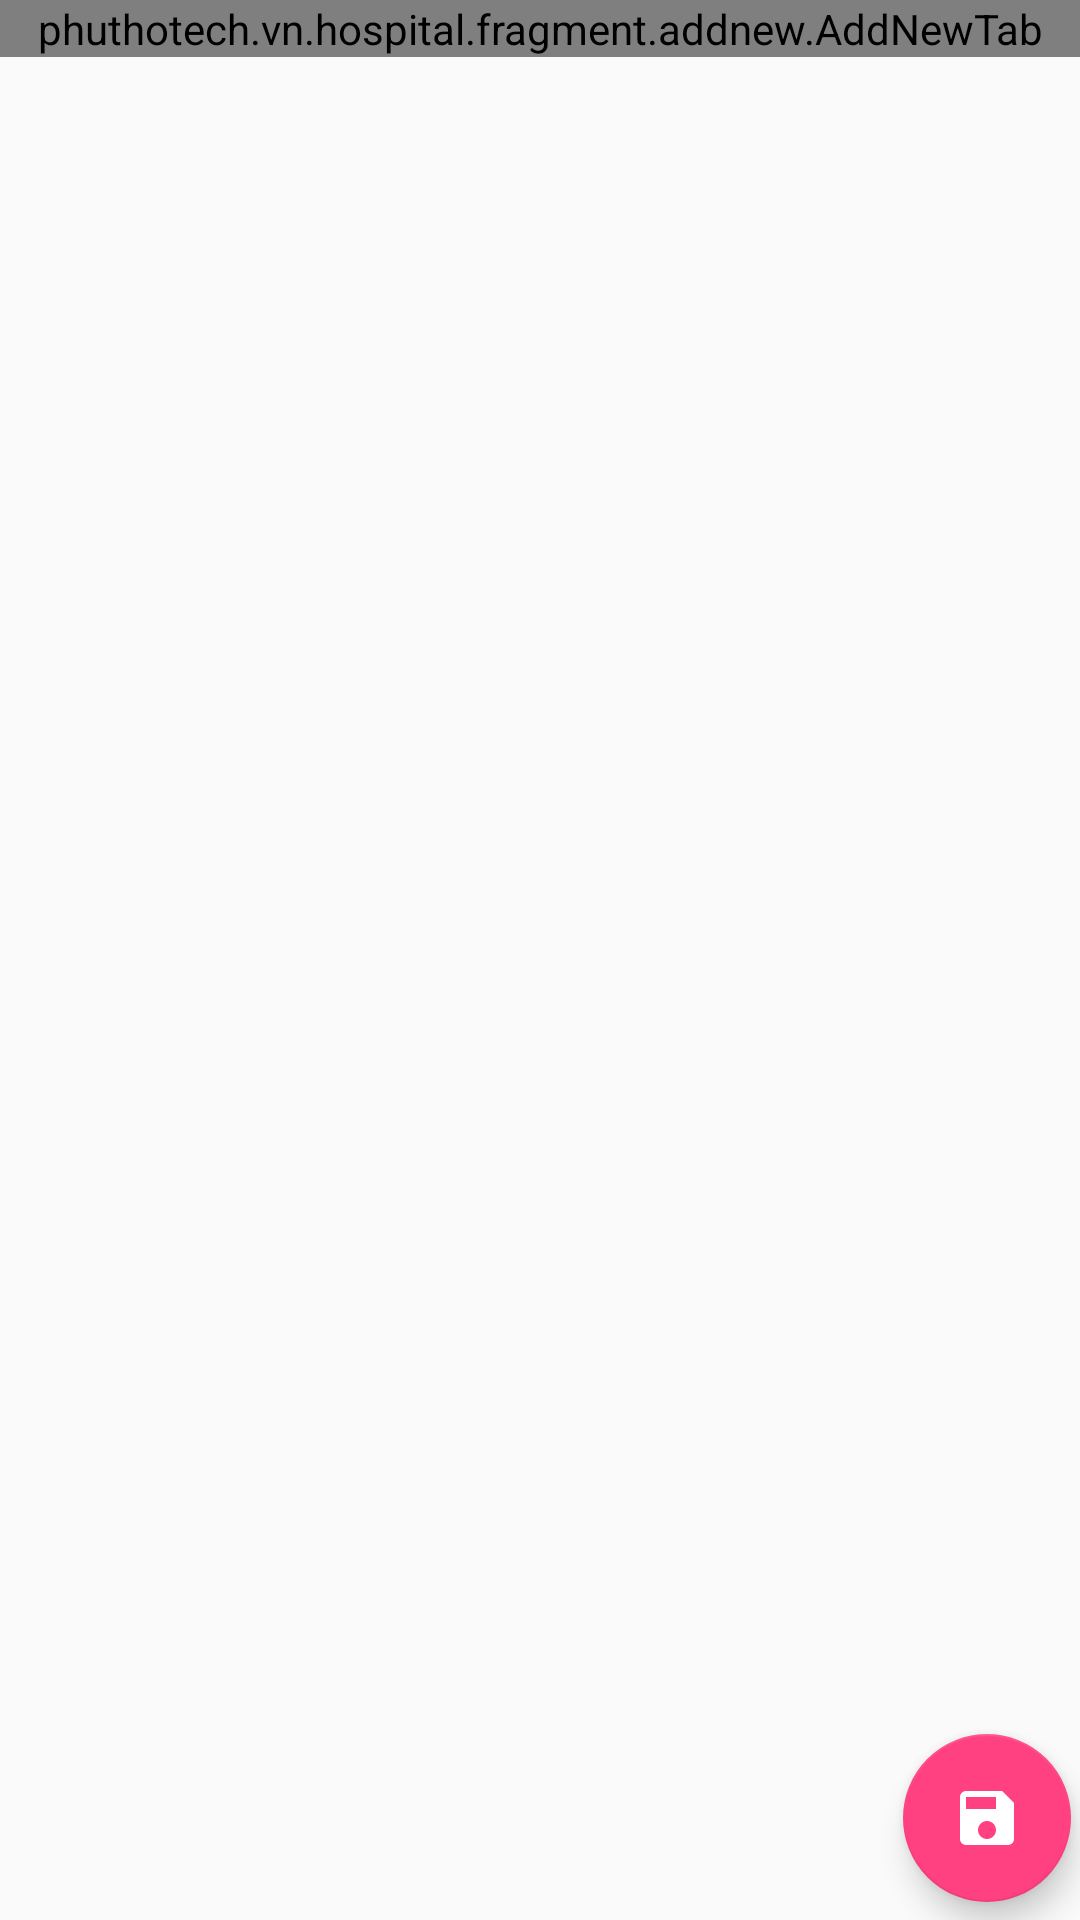

Where icons sit on this 1080×1920 app screen, as box(x1, y1, x2, y2):
save: box(903, 1734, 1071, 1902)
